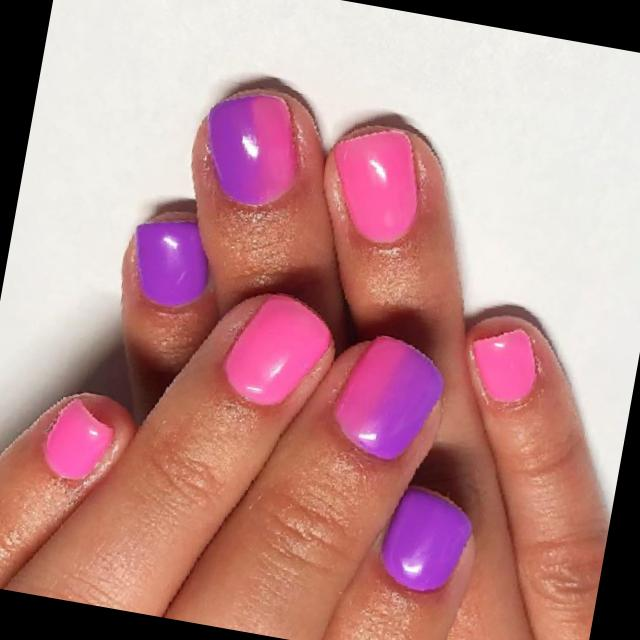Nail: (333, 335, 442, 459), (222, 293, 331, 404), (206, 93, 298, 206), (380, 486, 470, 591), (332, 129, 416, 241), (134, 219, 207, 306), (43, 399, 111, 478), (470, 327, 535, 401)
